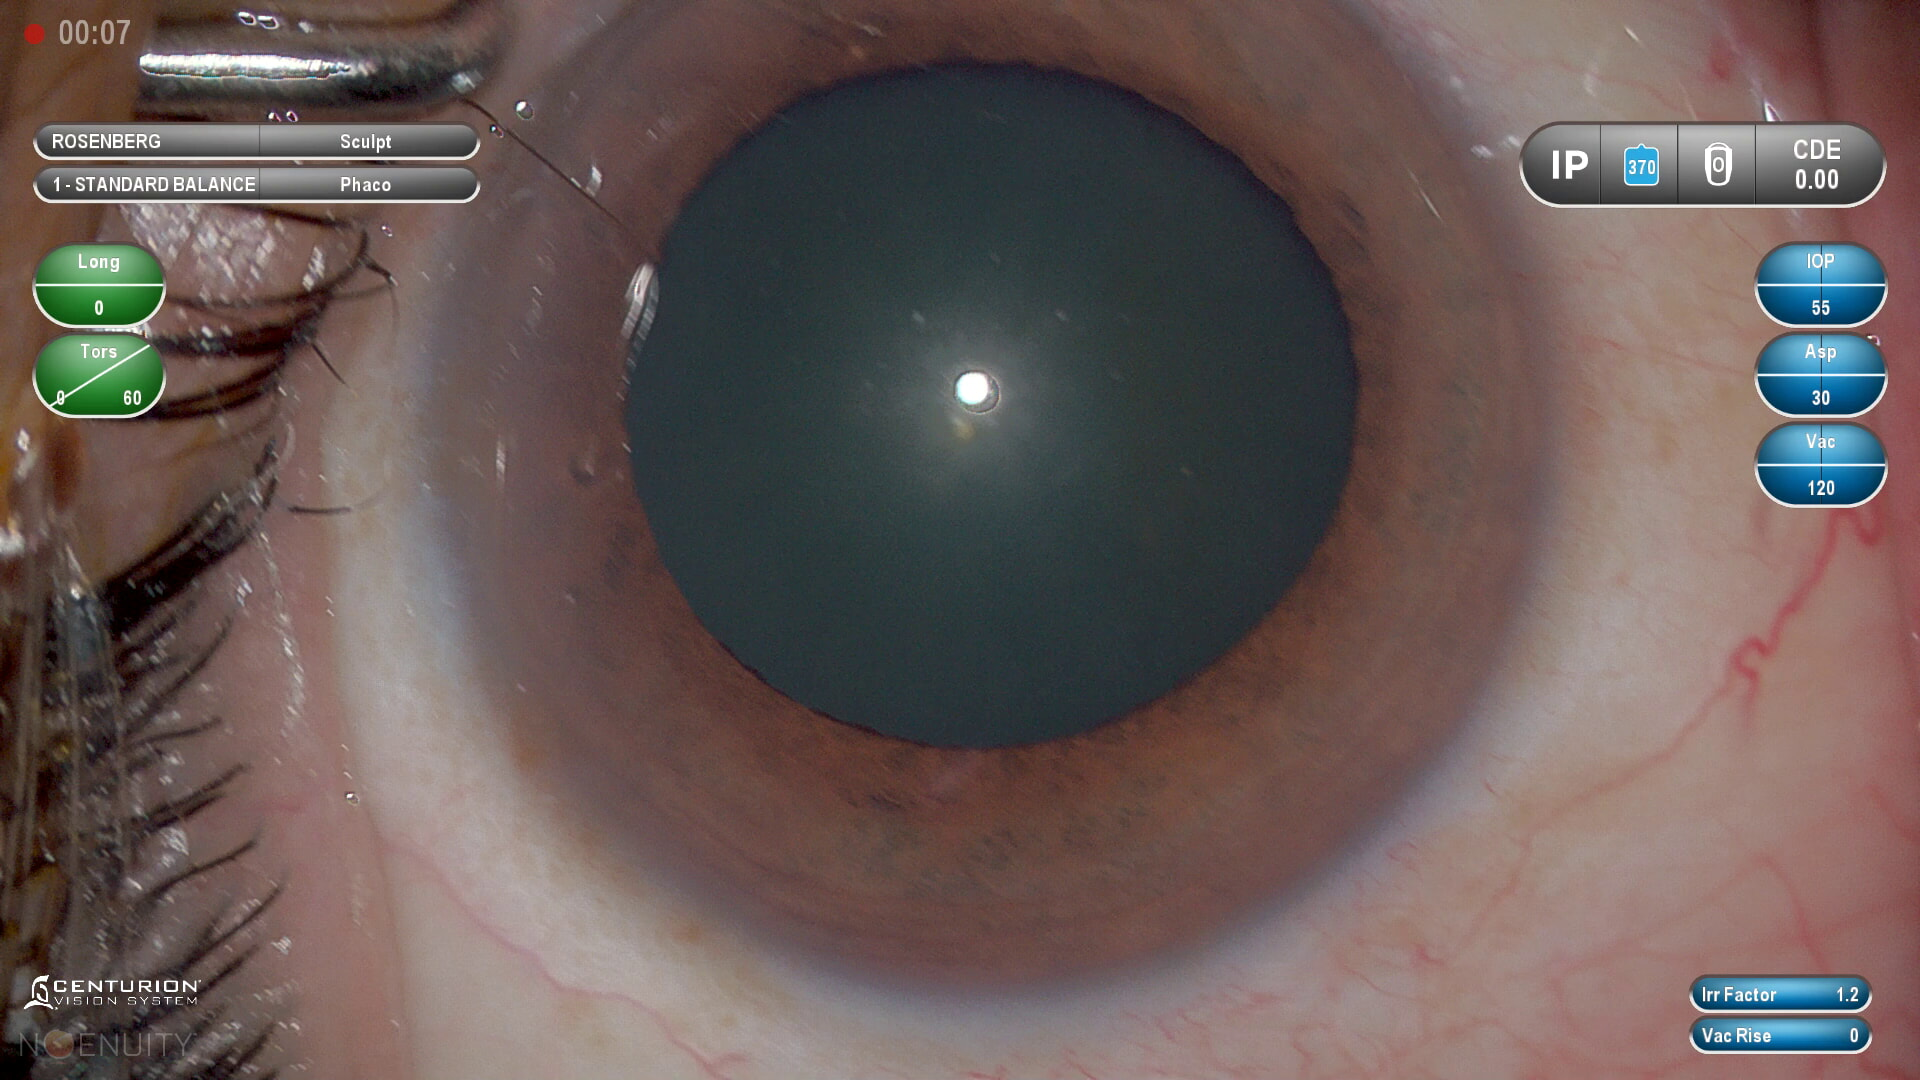iris: (428, 1, 1556, 990)
pupil: (630, 61, 1364, 751)
